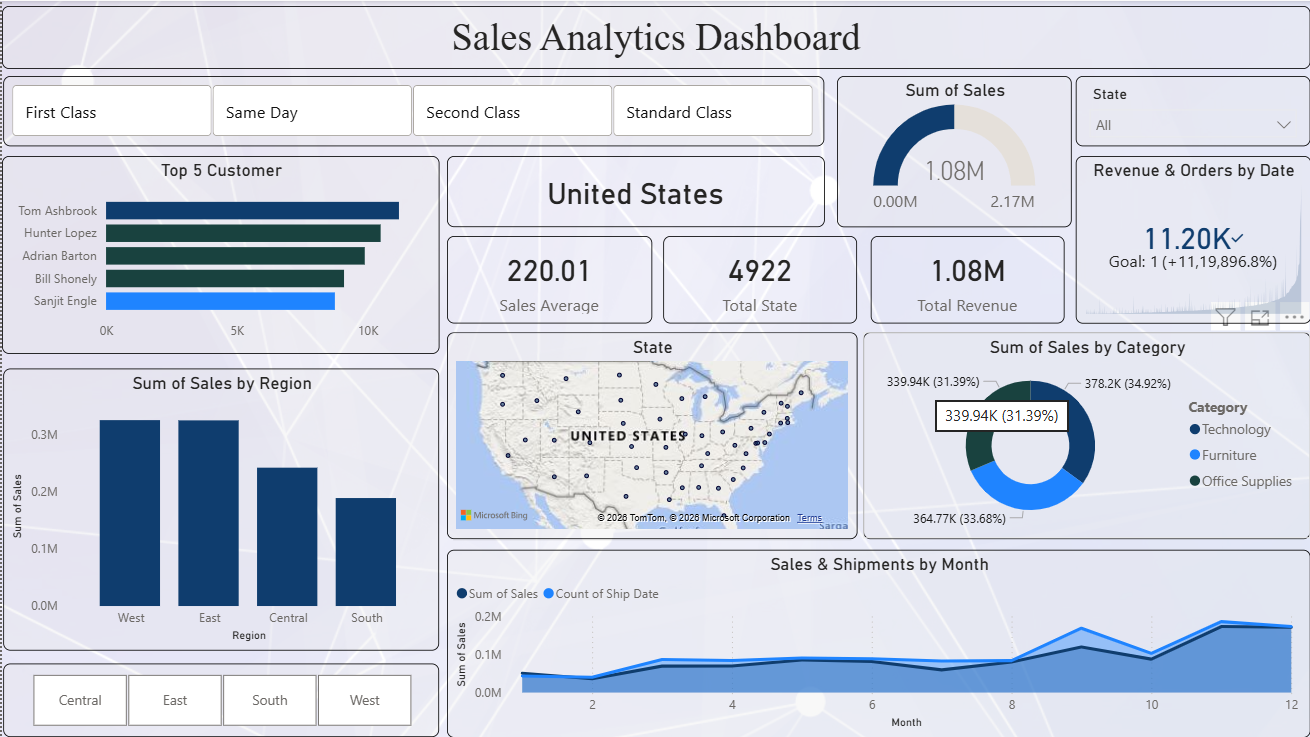

What the dashboard file says about the page in this screenshot:
{"tool":"powerbi","page":{"name":"Page 1","canvas":[1280,720],"ordinal":0},"visuals":[{"type":"textbox","box":[0,5,1280,61.2],"z":0},{"type":"clusteredColumnChart","fields":{"Category":["train.Region"],"Y":["train.Sales"]},"box":[1.2,359.5,426.8,276.4],"z":1000},{"type":"donutChart","fields":{"Category":["train.Category"],"Y":["train.Sales"]},"box":[842.5,323.8,437.5,202.5],"z":2000},{"type":"gauge","fields":{"Y":["train.Sales"]},"box":[816.9,73.4,229.9,148],"z":3000},{"type":"slicer","fields":{"Values":["train.Region"]},"box":[1.2,648.1,426.8,72.1],"z":4000},{"type":"map","fields":{"Category":["train.State"]},"box":[435,323.8,401.2,202.5],"z":5000},{"type":"kpi","title":"Revenue & Orders by Date","fields":{"TrendLine":["train.Sales"],"Indicator":["train.Total Revenue"],"Goal":["train.Order Date"]},"box":[1050,151.2,230,163.8],"z":6000},{"type":"lineChart","title":"Sales & Shipments by Month","fields":{"Y2":["train.Ship Date"],"Y":["train.Sales"],"Category":["train.Month"]},"box":[435,536.2,845,183.8],"z":7000},{"type":"slicer","fields":{"Values":["train.State"]},"box":[1050.4,73.4,229.9,68.5],"z":8000},{"type":"card","fields":{"Values":["train.Sales"]},"box":[435.3,229.9,200.5,85.6],"z":9000},{"type":"card","fields":{"Values":["train.State"]},"box":[646.9,229.9,189.5,85.6],"z":10000},{"type":"card","fields":{"Values":["train.Total Revenue"]},"box":[849.9,229.9,189.5,85.6],"z":11000},{"type":"card","fields":{"Values":["train.Country"]},"box":[435.3,151.6,369.3,69.7],"z":12000},{"type":"barChart","title":"Top 5 Customer","fields":{"Category":["train.Customer Name"],"Series":["train.Ship Mode"],"Y":["train.Sales"]},"box":[0,151.6,428,193.2],"z":13000},{"type":"advancedSlicerVisual","fields":{"Values":["train.Ship Mode"]},"box":[1.2,73.4,803.4,68.5],"z":14000}]}

Visuals, with their boxes in screenshot pixels (x1, y1, x2, y2), scaled from the page's 1280x720 canvas onto the 1310x737 screenshot:
textbox: (0, 5, 1309, 68)
clusteredColumnChart - train.Region x train.Sales: (1, 368, 438, 651)
donutChart - train.Category x train.Sales: (862, 331, 1309, 539)
gauge - train.Sales: (836, 75, 1071, 227)
slicer - train.Region: (1, 663, 438, 736)
map - train.State: (445, 331, 856, 539)
"Revenue & Orders by Date" kpi: (1075, 155, 1309, 322)
"Sales & Shipments by Month" lineChart: (445, 549, 1309, 736)
slicer - train.State: (1075, 75, 1309, 145)
card - train.Sales: (446, 235, 651, 323)
card - train.State: (662, 235, 856, 323)
card - train.Total Revenue: (870, 235, 1064, 323)
card - train.Country: (446, 155, 823, 227)
"Top 5 Customer" barChart: (0, 155, 438, 353)
advancedSlicerVisual - train.Ship Mode: (1, 75, 823, 145)
